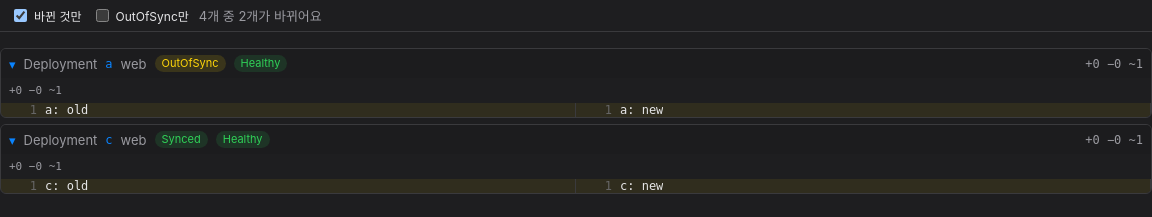
Test case: changed only off lists every resource and the unchanged ones say nothing changed
Click the checkbox labelled "바뀐 것만".
click(20, 16)  # box [14,9,27,22]
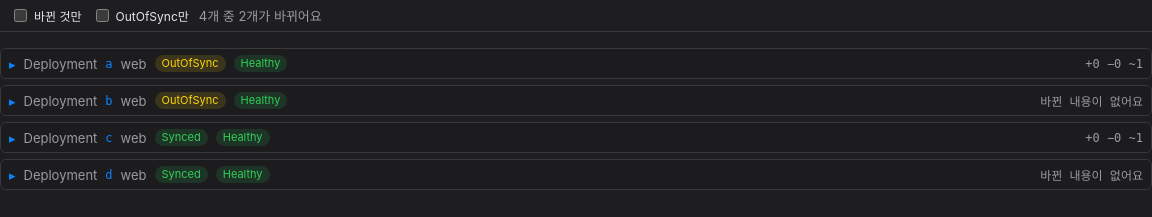
Expected: the 1st text "바뀐 내용이 없어요" is shown, [1040,92,1143,109]
